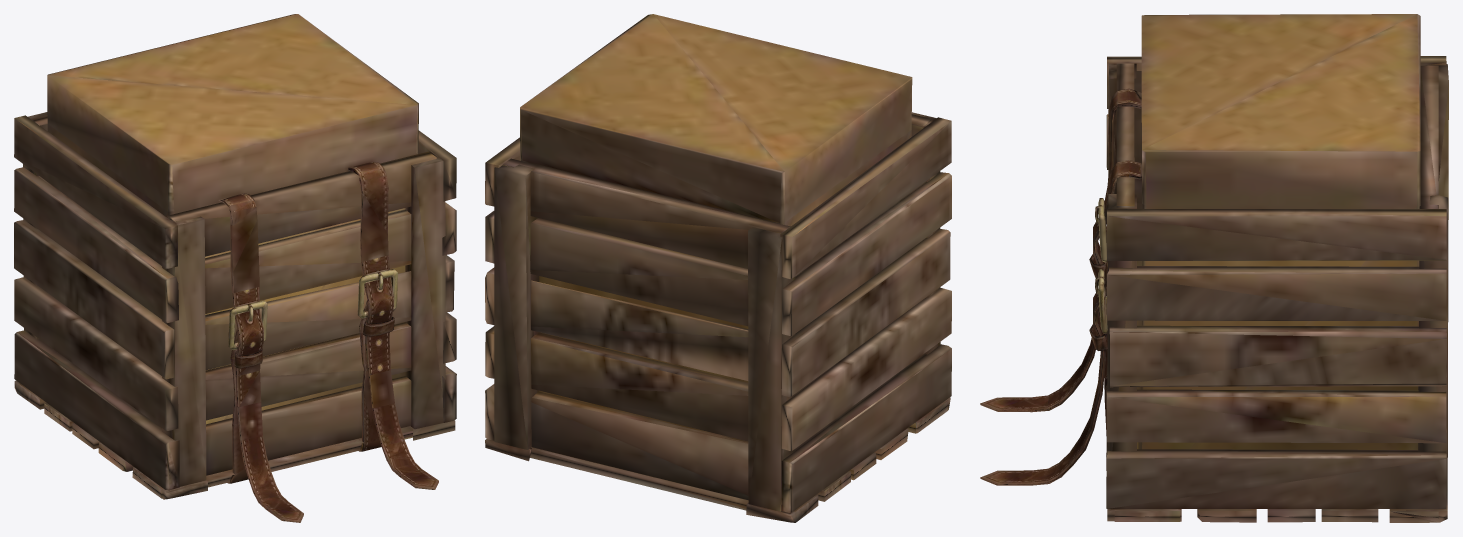
The model's file is pack_harvestCrate.glb.
3 renders of one model, left to right at view 1: azimuth 30°, elevation 25°; view 2: azimuth 150°, elevation 25°; view 3: azimuth 270°, elevation 25°, orthographic. The views are drawn at different scales.
Size of the model in its own units: 0.7666 by 0.8091 by 0.9492.
Materials: 1 (1 with a texture image).
